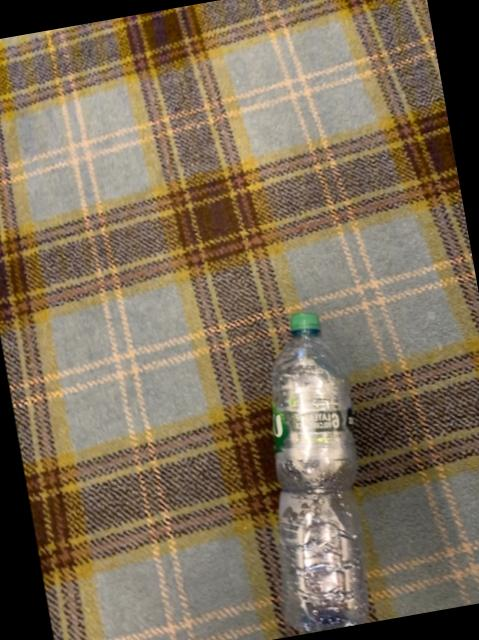plastic: (272, 310, 367, 631)
